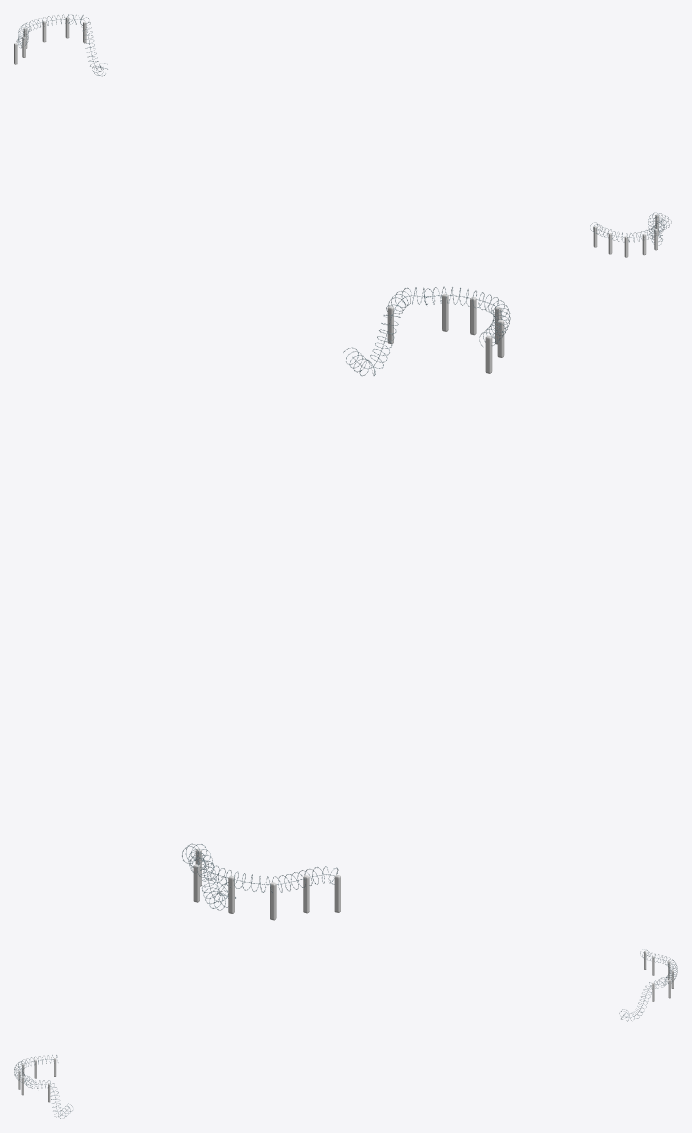
The model's file is barbed wires.fbx.
3 views of the same model, one above another, from view 1: azimuth 30°, elevation 25°; view 2: azimuth 150°, elevation 25°; view 3: azimuth 270°, elevation 25° (orthographic). The views are drawn at different scales.
Bounding box in the file's own units: 2041 × 285 × 4105.
